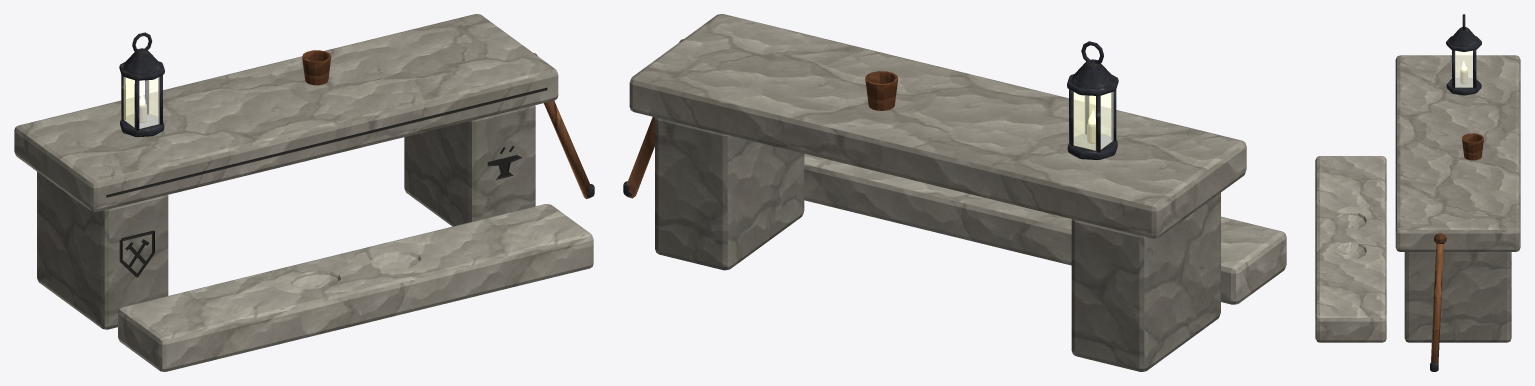
The model's file is qb_mourners_bench.glb.
3 views of the same model, side by side, from view 1: azimuth 30°, elevation 25°; view 2: azimuth 150°, elevation 25°; view 3: azimuth 270°, elevation 25° (orthographic). The views are drawn at different scales.
Parts seen in each view (by area): view 1: model; view 2: model; view 3: model.
Part boxes in pixels (x1=…): model: x1=14, y1=14, x2=594, y2=371; model: x1=623, y1=14, x2=1286, y2=371; model: x1=1315, y1=14, x2=1520, y2=371.
Size of the model in its own units: 1.57 by 0.7282 by 0.69.
Materials: 11 (7 with a texture image).
